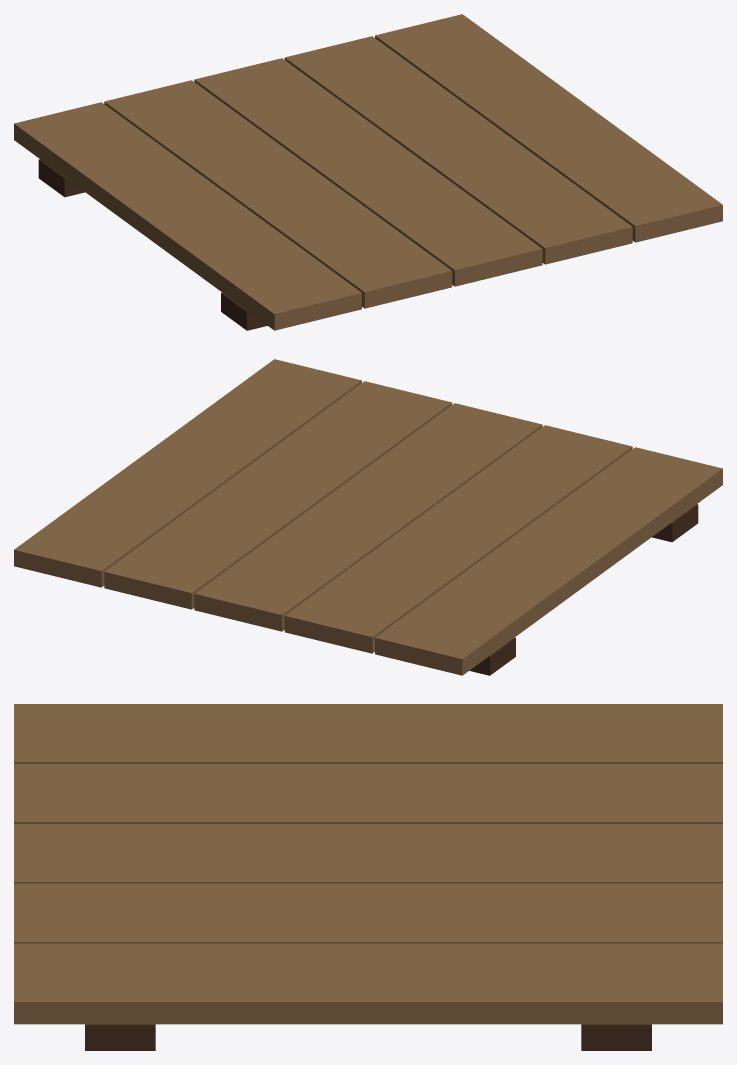
The model's file is floor_plank_lod0.glb.
3 views of the same model, one above another, from view 1: azimuth 30°, elevation 25°; view 2: azimuth 150°, elevation 25°; view 3: azimuth 270°, elevation 25° (orthographic). The views are drawn at different scales.
Visible parts, largest first — view 1: floor_plank; view 2: floor_plank; view 3: floor_plank.
Part boxes in pixels (bbox=[...]): floor_plank: bbox=[14, 14, 722, 330]; floor_plank: bbox=[14, 359, 722, 675]; floor_plank: bbox=[14, 704, 722, 1050].
Size of the model in its own units: 2 by 0.15 by 2.
